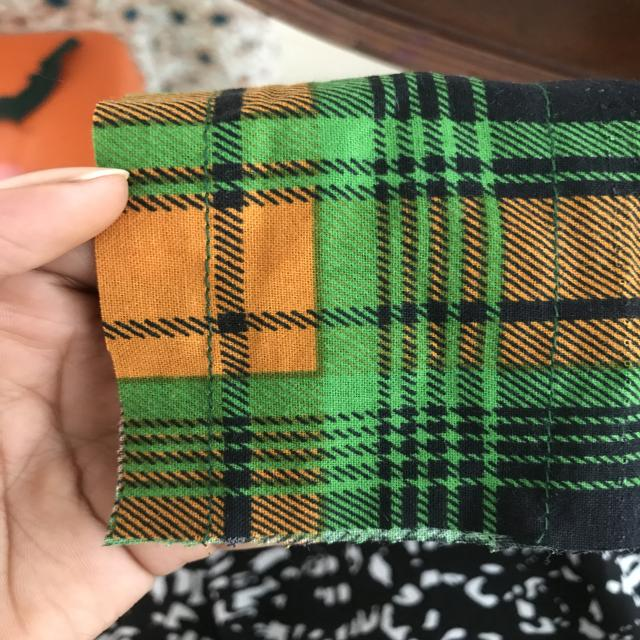good: (534, 202, 580, 311), (182, 224, 223, 318)
